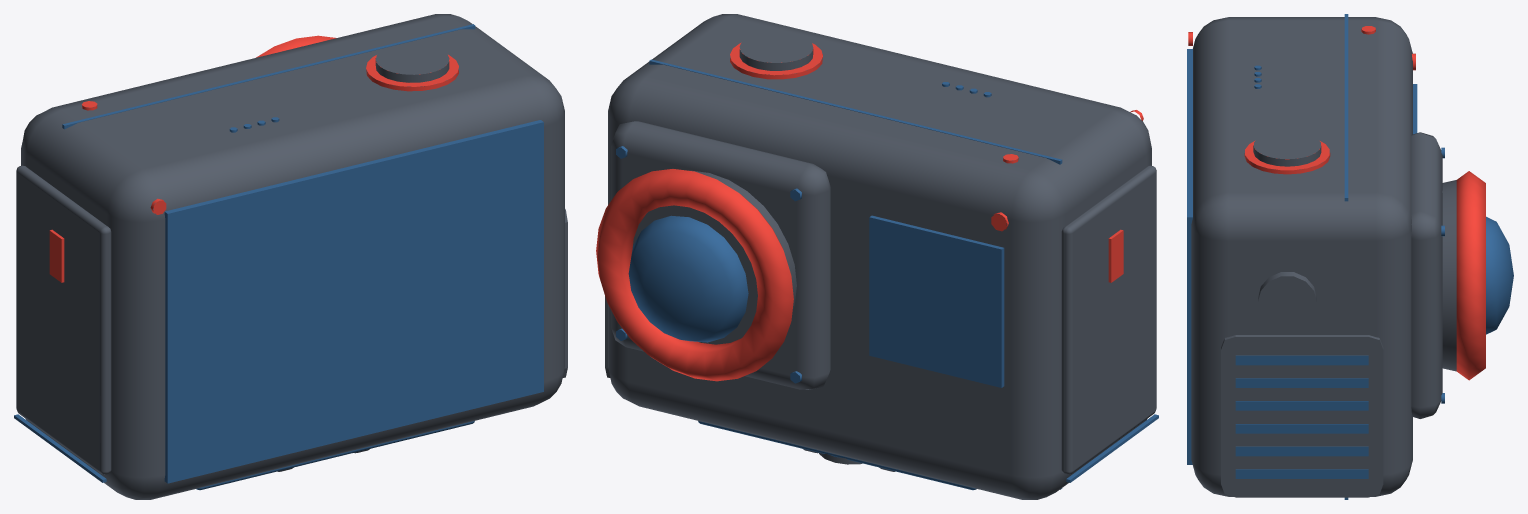
The model's file is action.glb.
3 views of the same model, side by side, from view 1: azimuth 30°, elevation 25°; view 2: azimuth 150°, elevation 25°; view 3: azimuth 270°, elevation 25° (orthographic). The views are drawn at different scales.
Parts seen in each view (by area): view 1: screen, body_shell, details_shell, controls_shell, details_glass, body_glass, controls_accent, details_accent; view 2: body_shell, details_shell, lens_shell, screen, lens_accent, lens_glass, controls_shell, details_glass, body_glass, details_accent, controls_accent; view 3: body_shell, details_shell, lens_shell, details_glass, lens_accent, controls_shell, lens_glass, screen, controls_accent, body_glass.
Boxes of the visible parts, bbox=[...] form: screen: bbox=[164, 120, 543, 483]; body_shell: bbox=[21, 14, 564, 499]; details_shell: bbox=[16, 165, 567, 474]; controls_shell: bbox=[375, 43, 449, 86]; details_glass: bbox=[14, 117, 474, 490]; body_glass: bbox=[62, 24, 475, 129]; controls_accent: bbox=[366, 54, 458, 91]; details_accent: bbox=[49, 101, 166, 282]; body_shell: bbox=[608, 14, 1151, 499]; details_shell: bbox=[605, 165, 1156, 474]; lens_shell: bbox=[611, 121, 830, 389]; screen: bbox=[869, 215, 1004, 387]; lens_accent: bbox=[596, 169, 793, 381]; lens_glass: bbox=[616, 146, 801, 383]; controls_shell: bbox=[739, 32, 813, 74]; details_glass: bbox=[698, 82, 1158, 490]; body_glass: bbox=[649, 59, 1062, 489]; details_accent: bbox=[991, 110, 1143, 282]; controls_accent: bbox=[730, 42, 822, 79]; body_shell: bbox=[1191, 17, 1412, 496]; details_shell: bbox=[1221, 335, 1383, 497]; lens_shell: bbox=[1411, 132, 1456, 418]; details_glass: bbox=[1235, 65, 1368, 478]; lens_accent: bbox=[1456, 171, 1485, 380]; controls_shell: bbox=[1253, 130, 1321, 328]; lens_glass: bbox=[1441, 147, 1513, 403]; screen: bbox=[1187, 49, 1417, 464]; controls_accent: bbox=[1244, 140, 1330, 174]; body_glass: bbox=[1344, 14, 1348, 499].
Bounding box in the file's own units: 0.068 × 0.0495 × 0.0443.
